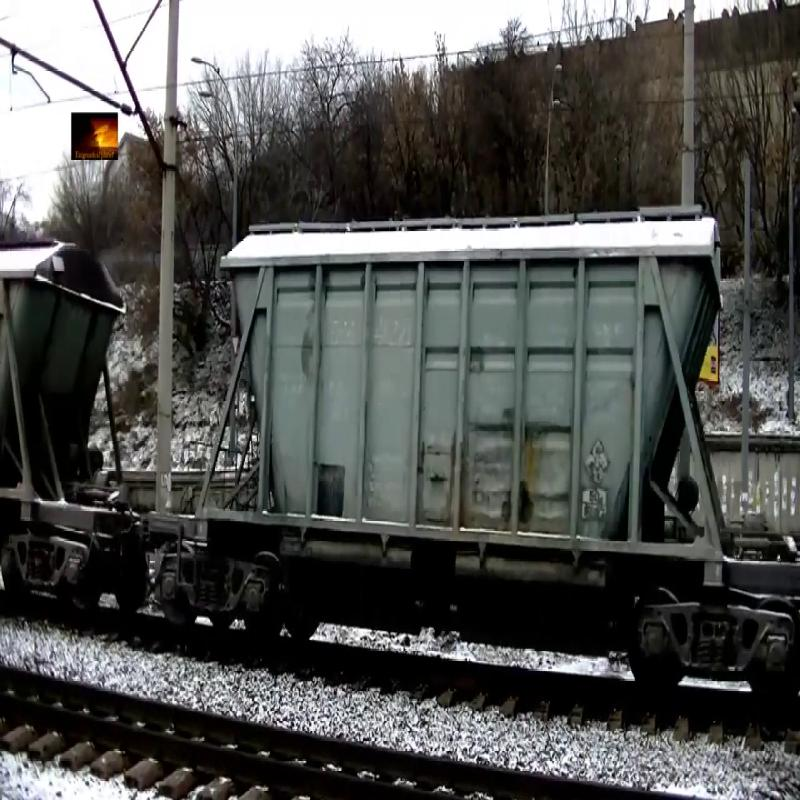train: (196, 204, 733, 595), (1, 224, 131, 579)
